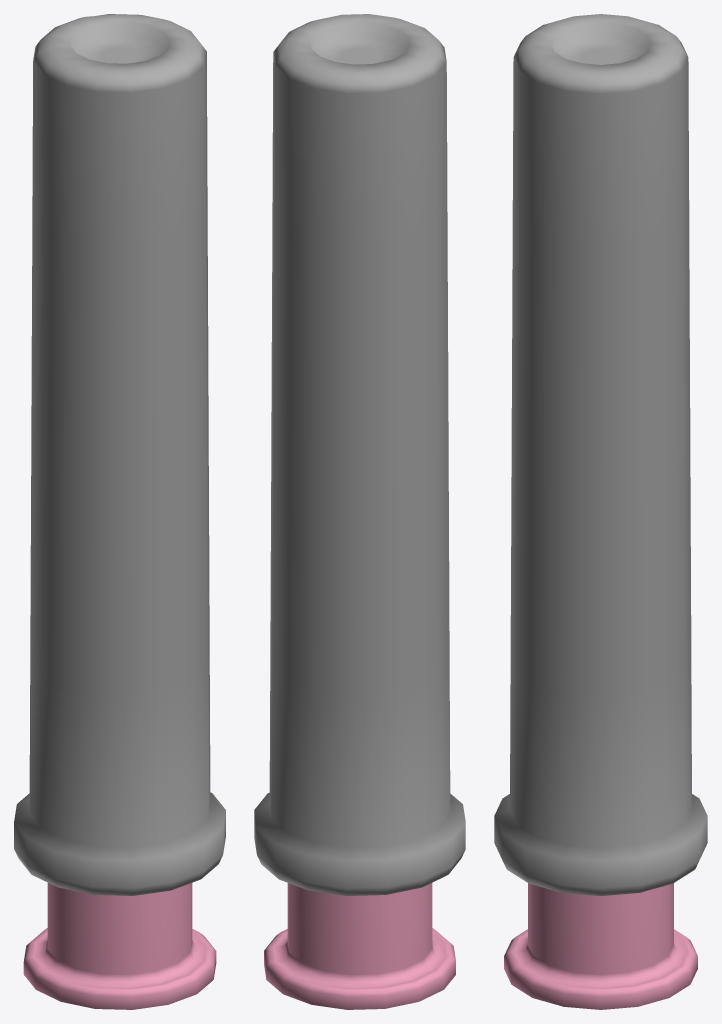
The model's file is needle.fbx.
3 views of the same model, side by side, from view 1: azimuth 30°, elevation 25°; view 2: azimuth 150°, elevation 25°; view 3: azimuth 270°, elevation 25° (orthographic).
Parts seen in each view (by area): view 1: needle_cap, needle; view 2: needle_cap, needle; view 3: needle_cap, needle.
Boxes of the visible parts, x1=… form: needle_cap: x1=14, y1=14, x2=225, y2=895; needle: x1=23, y1=883, x2=216, y2=1009; needle_cap: x1=254, y1=14, x2=465, y2=895; needle: x1=264, y1=883, x2=455, y2=1009; needle_cap: x1=494, y1=14, x2=707, y2=895; needle: x1=504, y1=883, x2=697, y2=1009.
Size of the model in its own units: 1.17 by 5.6 by 1.17.
